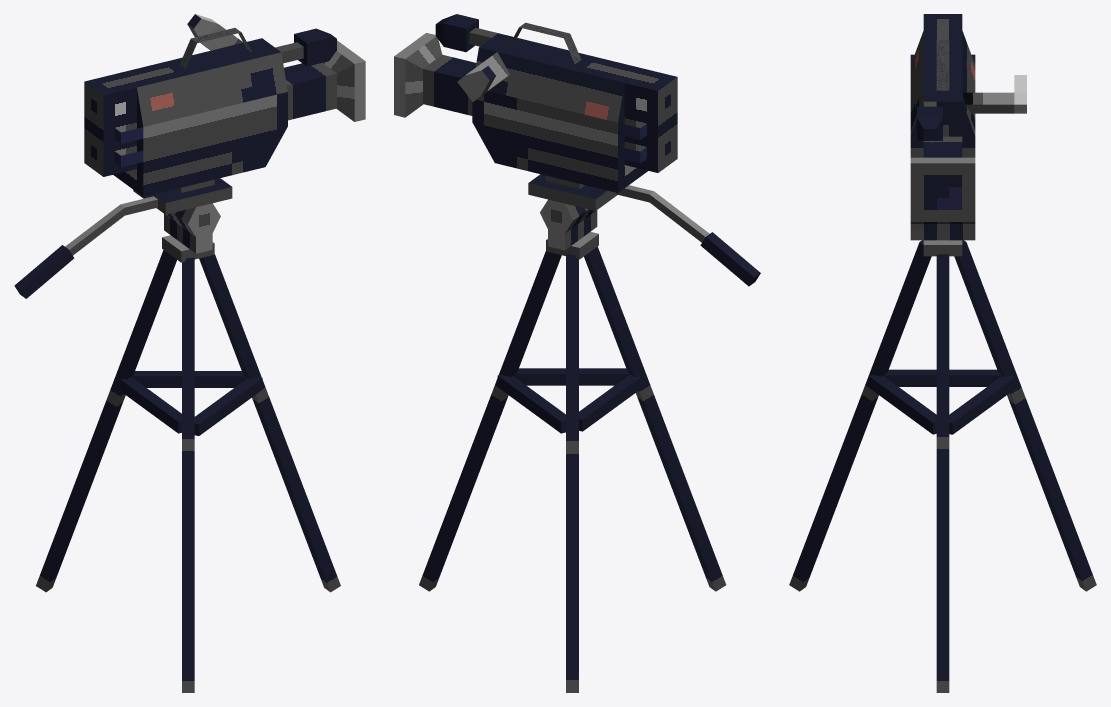
File: SM_Camera.fbx
The picture shows the model from 3 angles, left to right: view 1: azimuth 30°, elevation 25°; view 2: azimuth 150°, elevation 25°; view 3: azimuth 270°, elevation 25°; orthographic projection.
Parts seen in each view (by area): view 1: Camera.001; view 2: Camera.001; view 3: Camera.001.
Boxes of the visible parts, <box> form: Camera.001: <box>14,14,365,692</box>; Camera.001: <box>394,14,760,692</box>; Camera.001: <box>789,14,1096,692</box>.
Bounding box in the file's own units: 95.15 × 156 × 74.31.
